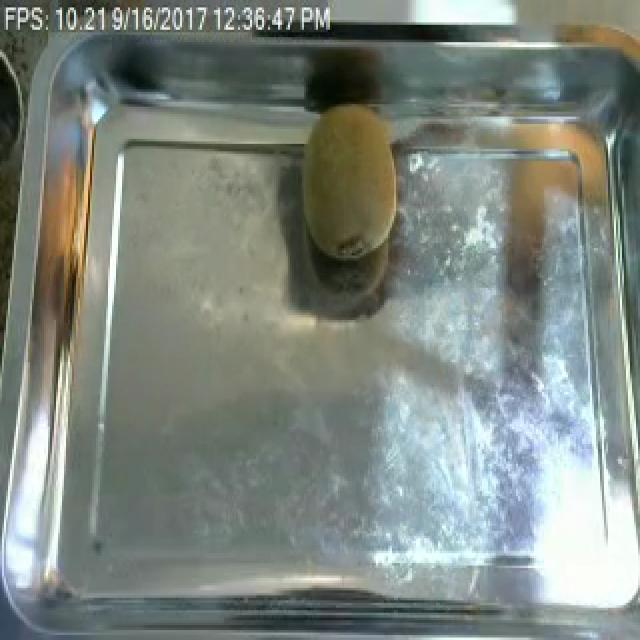Fruit: (284, 92, 406, 273)
